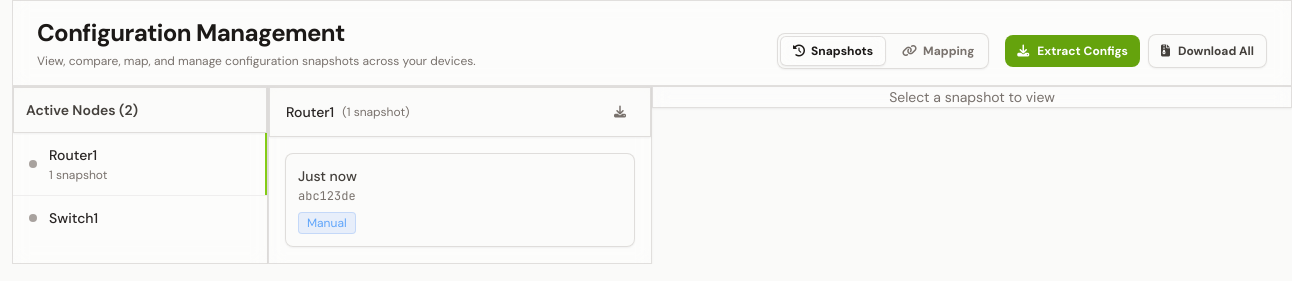
Test: ConfigsView › Snapshot selection and viewing › shows copy button when viewing a snapshot
This screenshot has width=1292, height=281.
Click the text "Router1": coordinates (73, 155) [49,146,97,164]
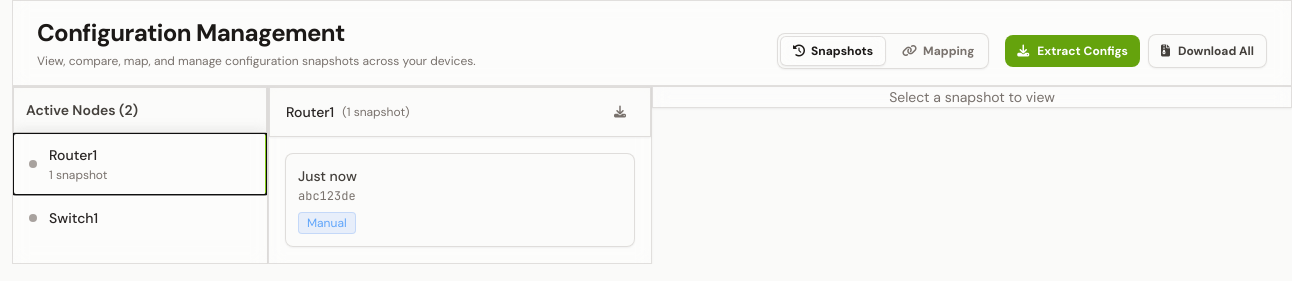
Click the element showing "Just now abc123de Manual": coordinates (460, 200) [285,153,635,247]
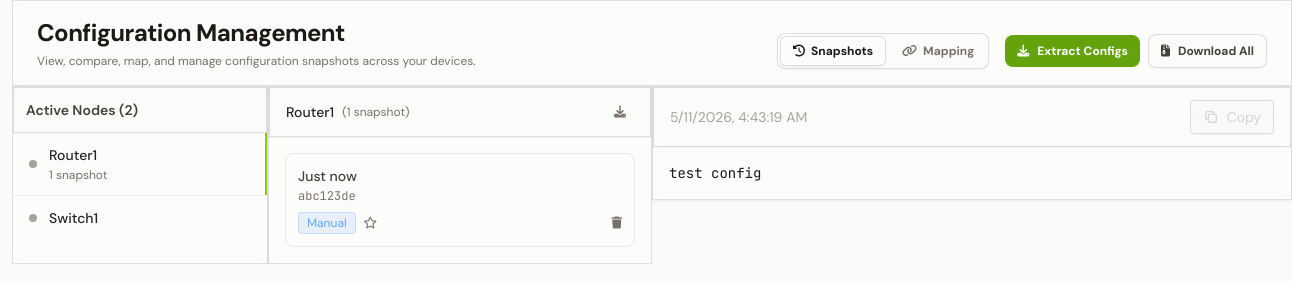
Expected: the button "Copy" is shown, [1190,100,1274,134]
